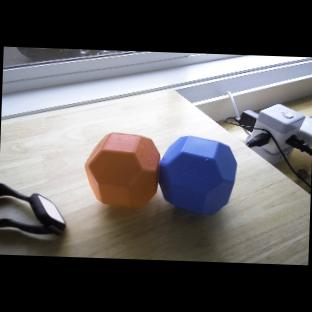V5_BLUE: (163, 135, 239, 220)
V5_RED: (85, 131, 163, 211)
pieces: (81, 128, 242, 219)
